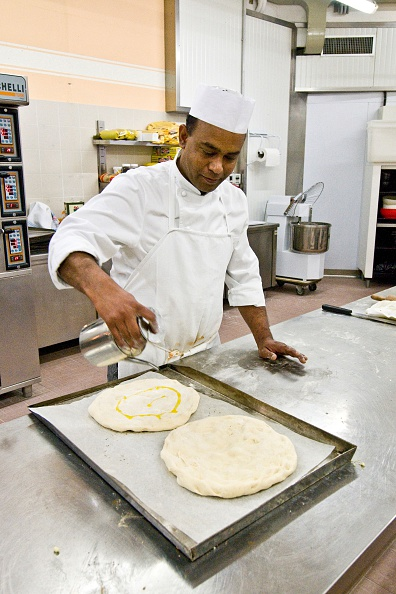em pe: (32, 97, 312, 386)
